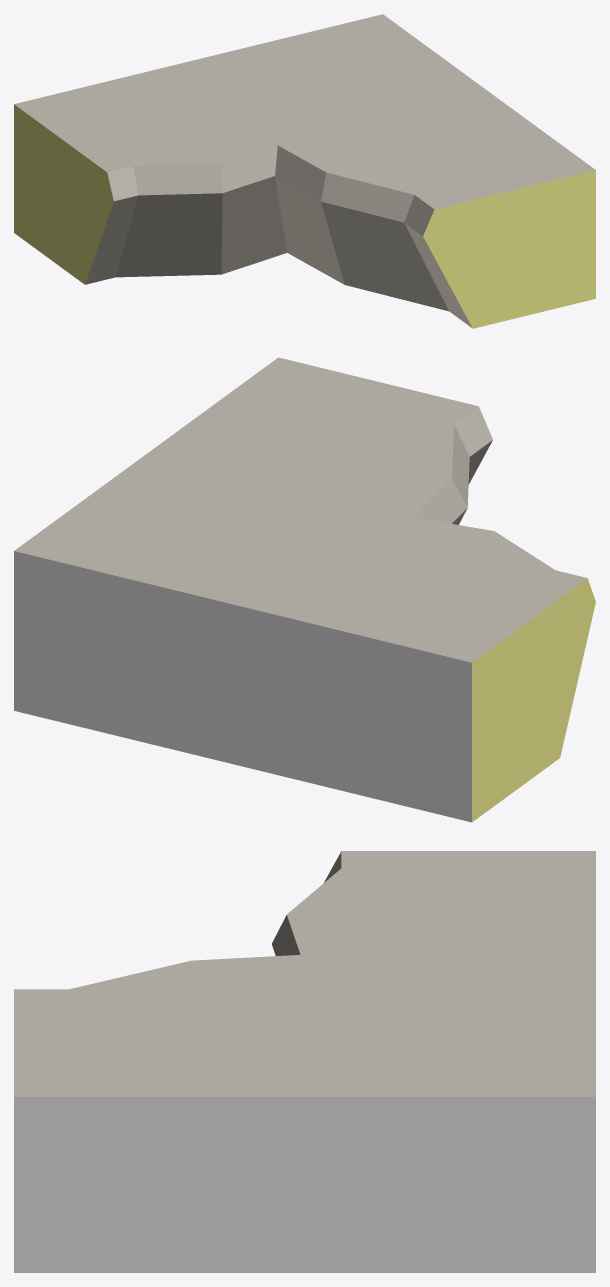
Rendered from Cracked_Curve_Inner_3x3_1_Top.glb.
3 views of the same model, one above another, from view 1: azimuth 30°, elevation 25°; view 2: azimuth 150°, elevation 25°; view 3: azimuth 270°, elevation 25° (orthographic). The views are drawn at different scales.
Parts seen in each view (by area): view 1: Cracked_Curve_Inner_3x3_1_Top; view 2: Cracked_Curve_Inner_3x3_1_Top; view 3: Cracked_Curve_Inner_3x3_1_Top.
Part boxes in pixels (bbox=[...]): Cracked_Curve_Inner_3x3_1_Top: bbox=[14, 14, 595, 328]; Cracked_Curve_Inner_3x3_1_Top: bbox=[14, 357, 595, 822]; Cracked_Curve_Inner_3x3_1_Top: bbox=[14, 851, 595, 1272].
Bounding box in the file's own units: 300 × 100 × 300.
